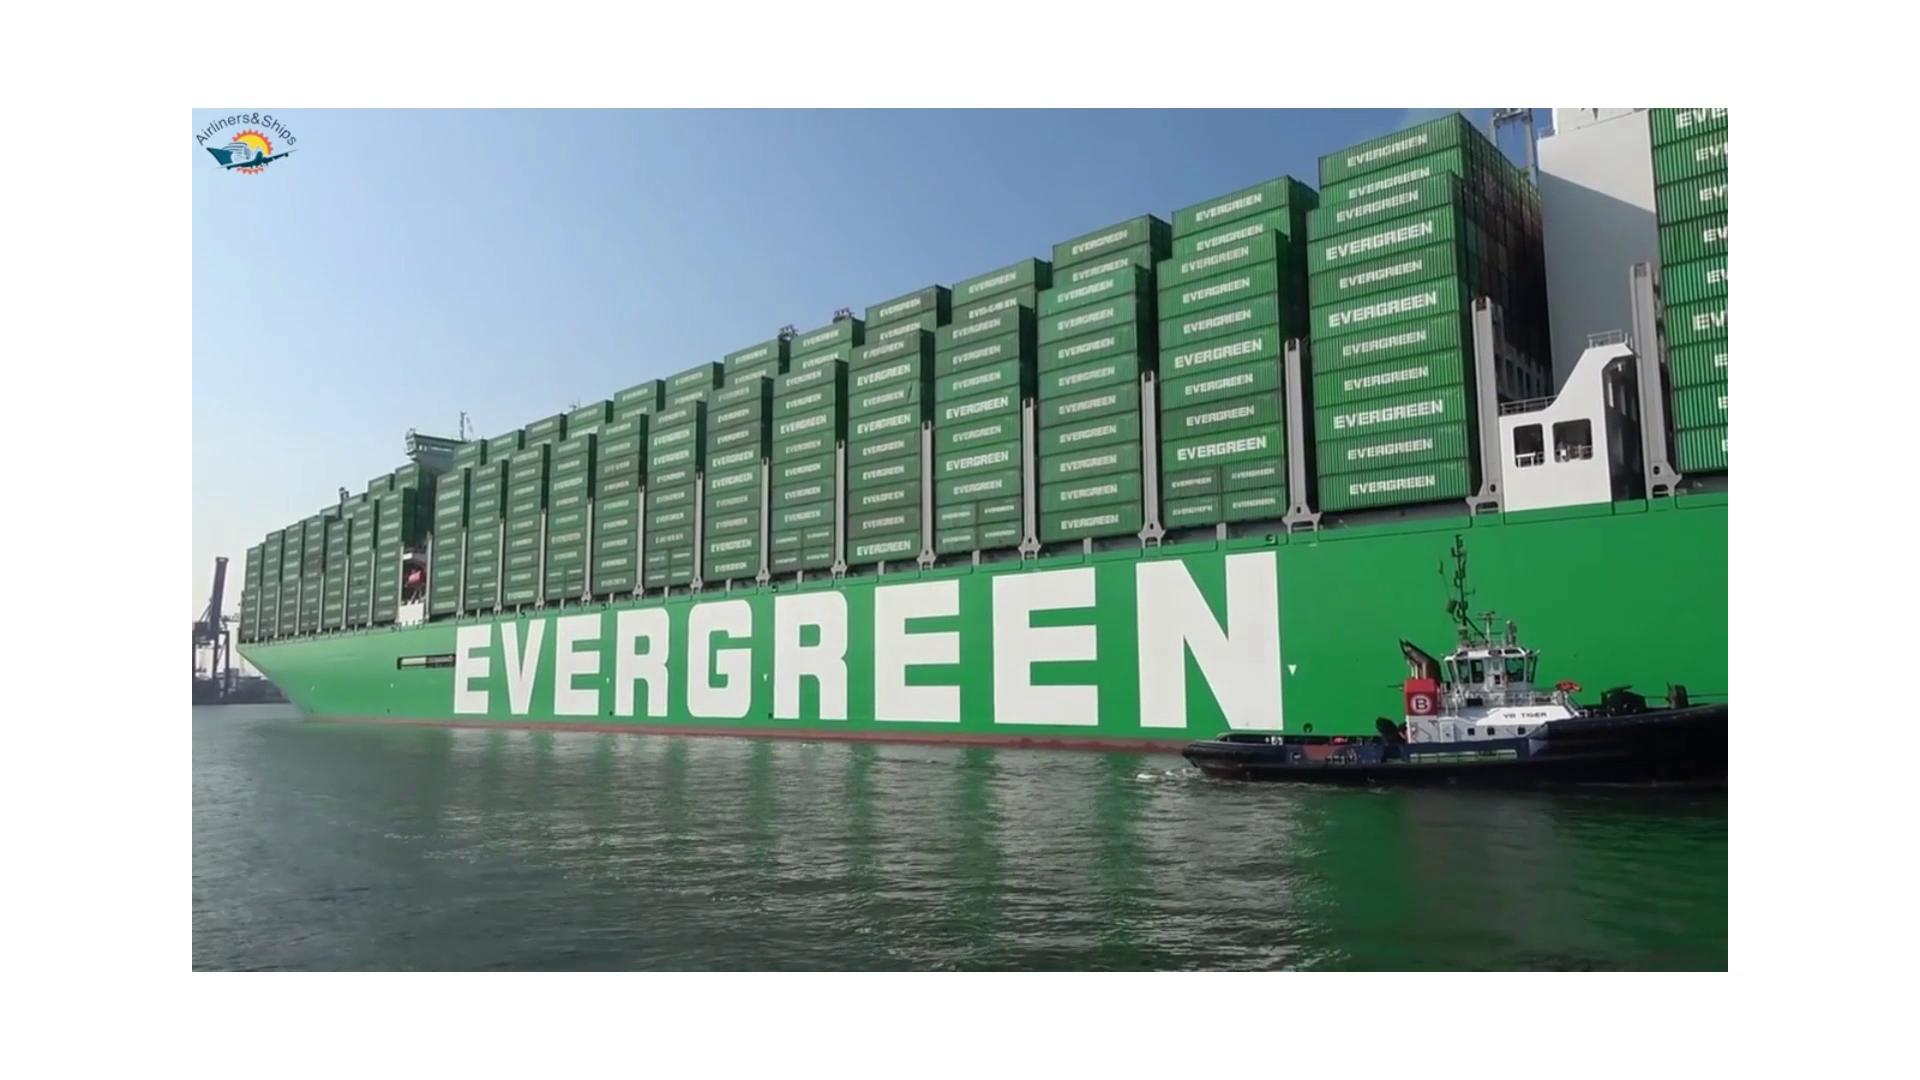OCR: (430, 533, 1346, 781)
